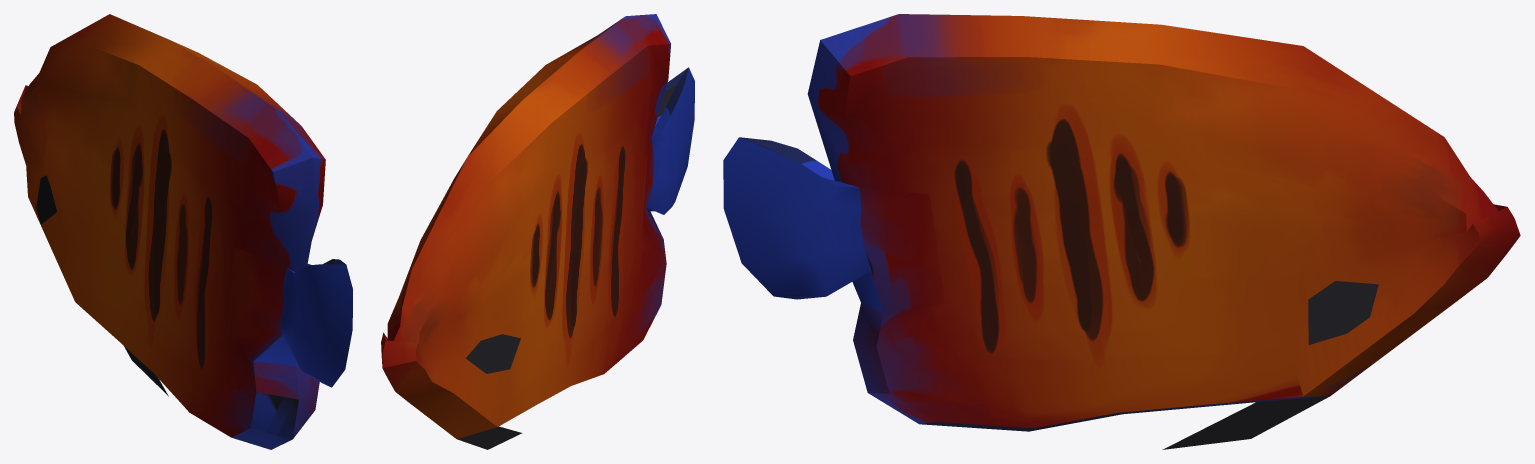
File: RedFish.fbx
The picture shows the model from 3 angles, left to right: view 1: azimuth 30°, elevation 25°; view 2: azimuth 150°, elevation 25°; view 3: azimuth 270°, elevation 25°; orthographic projection. The views are drawn at different scales.
Parts seen in each view (by area): view 1: Plane; view 2: Plane; view 3: Plane.
Part boxes in pixels (box(x1,y1,x2,y2)): Plane: box(14, 14, 352, 449); Plane: box(381, 14, 694, 449); Plane: box(723, 14, 1520, 449).
Bounding box in the file's own units: 51.74 × 150 × 249.
